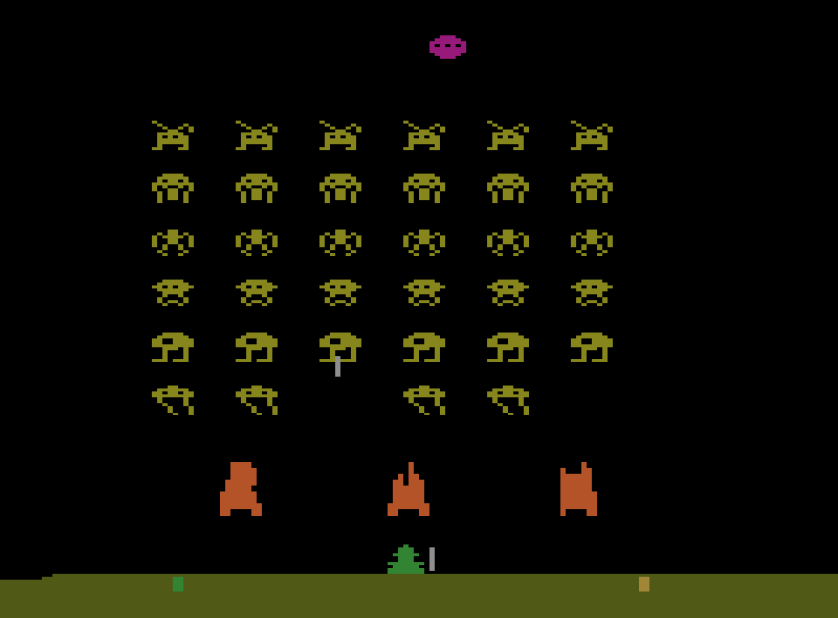bonus: (426, 32, 468, 61)
bullet: (428, 545, 436, 574), (334, 356, 341, 377)
invader1: (569, 117, 615, 152), (401, 118, 448, 152), (234, 117, 279, 152), (151, 117, 195, 152), (318, 117, 362, 152), (484, 119, 530, 152)
invader2: (316, 170, 362, 205), (149, 171, 197, 204), (235, 170, 279, 206), (402, 170, 448, 204), (484, 170, 530, 204), (569, 170, 614, 203)
invader3: (317, 227, 364, 258), (484, 226, 531, 257), (150, 226, 195, 257), (234, 226, 279, 257), (402, 227, 447, 258), (570, 228, 615, 257)
invader4: (318, 277, 363, 307), (151, 278, 195, 308), (485, 277, 529, 307), (570, 278, 614, 308), (401, 279, 448, 307), (235, 278, 279, 307)
invader5: (568, 329, 615, 364), (402, 329, 447, 365), (234, 329, 280, 364), (484, 330, 531, 364), (317, 330, 363, 364), (152, 330, 196, 364)
invader6: (234, 384, 280, 417), (402, 383, 448, 416), (486, 383, 530, 416), (151, 384, 196, 416)
player: (385, 542, 426, 575)
